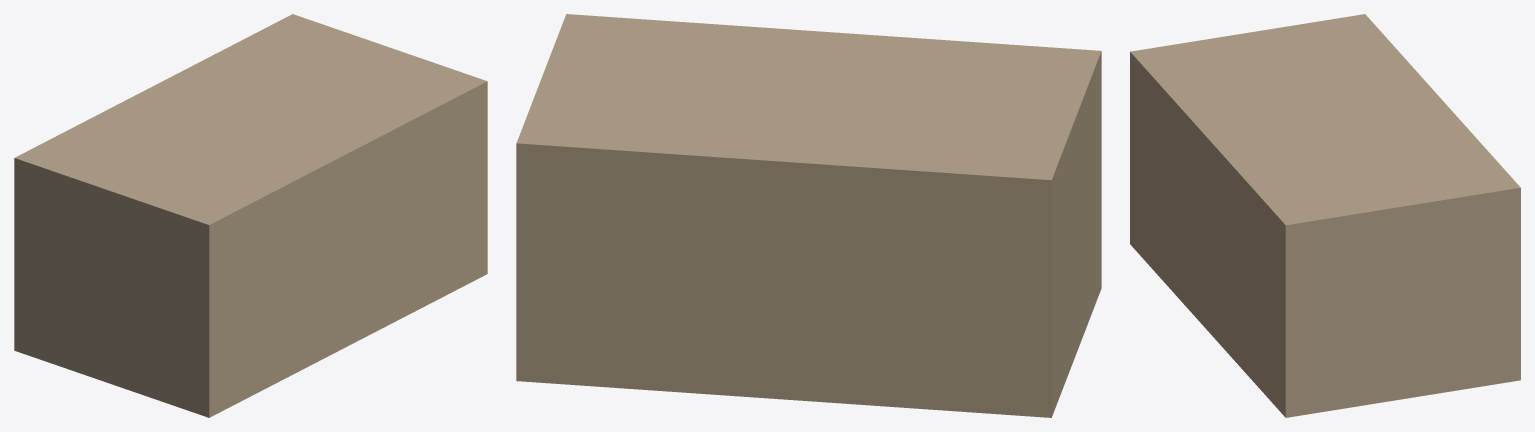
Rendered from bld_101979673.dae.
The picture shows the model from 3 angles, left to right: view 1: azimuth 30°, elevation 25°; view 2: azimuth 150°, elevation 25°; view 3: azimuth 270°, elevation 25°; orthographic projection. The views are drawn at different scales.
Parts seen in each view (by area): view 1: bld_101979673; view 2: bld_101979673; view 3: bld_101979673.
Boxes of the visible parts, x1,y1,x2,y2 form: bld_101979673: [14, 14, 487, 417]; bld_101979673: [516, 14, 1101, 417]; bld_101979673: [1130, 14, 1520, 417].
Bounding box in the file's own units: 18.82 × 14.7 × 8.
